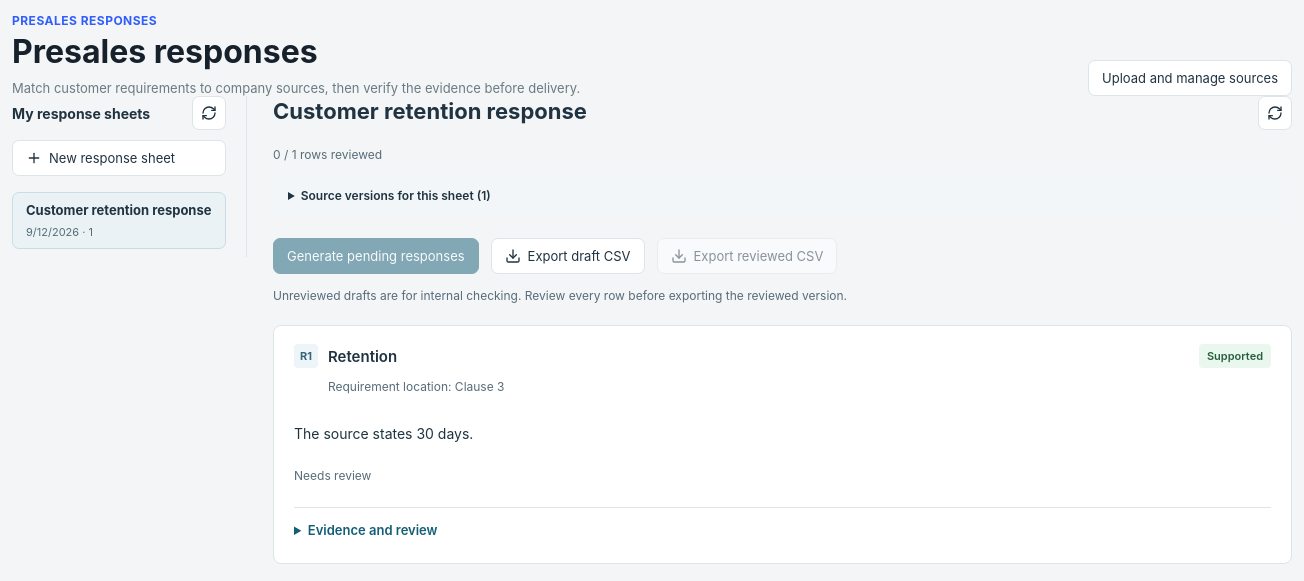
it: PresalesWorkspace HTTP boundary › hides cached evidence immediately when export observes source revocation
Expected: the text "The source states 30 days." is shown, [294,425,473,442]
Step 1. Click the button "Export draft CSV" → [568, 256], box [491,238,644,274]
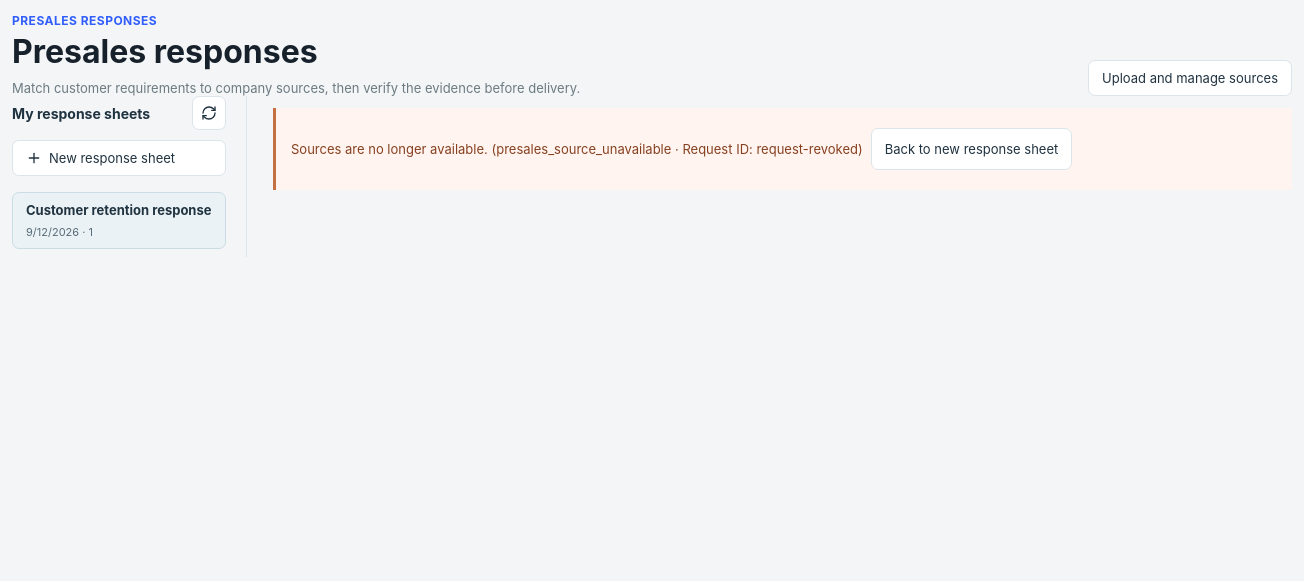
Expected: the text "request-revoked" is shown, [291,141,863,157]
Expected: the text "The source states 30 days." is gone
Expected: the button "Back to new response sheet" is shown, [871,128,1072,170]
